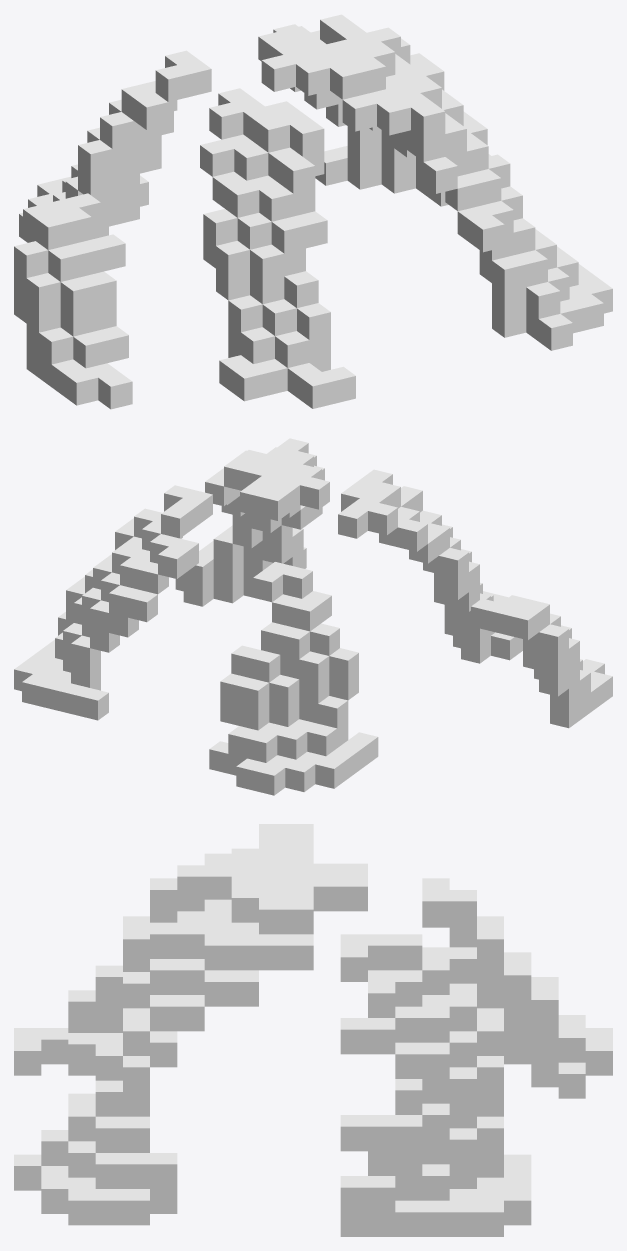
The model's file is Smol-Igloo-0.obj.
3 views of the same model, one above another, from view 1: azimuth 30°, elevation 25°; view 2: azimuth 150°, elevation 25°; view 3: azimuth 270°, elevation 25° (orthographic). The views are drawn at different scales.
Size of the model in its own units: 2.4 by 1 by 2.2.
1 material, 1 textured.
